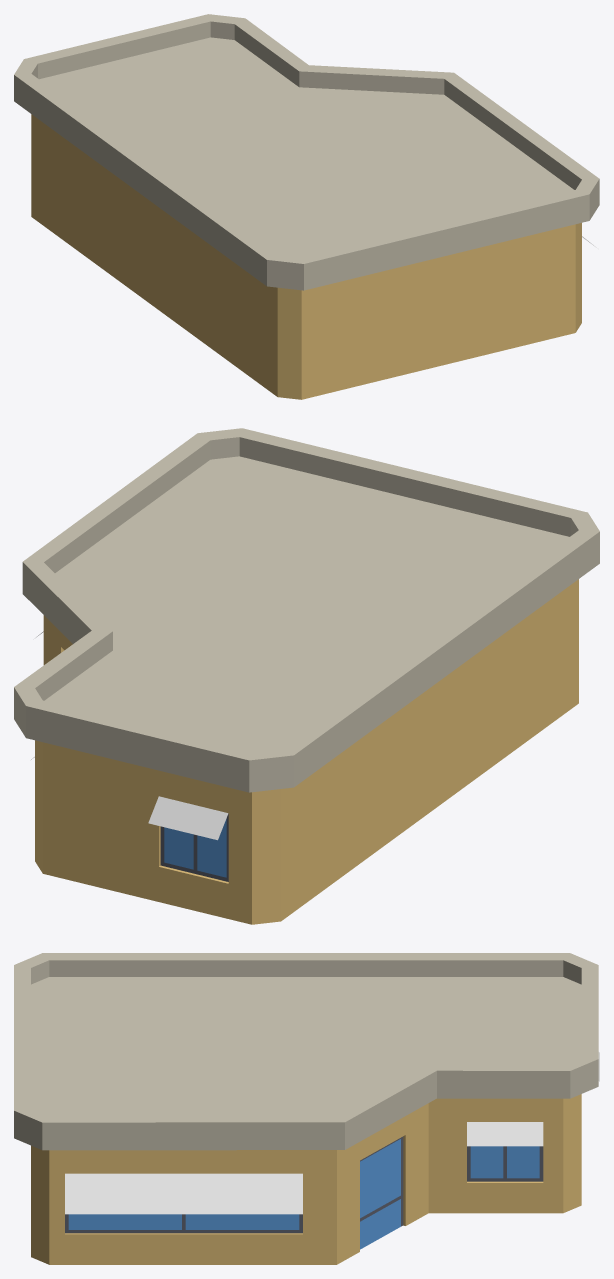
The model's file is cafe_y2.fbx.
The picture shows the model from 3 angles, top to bottom: view 1: azimuth 30°, elevation 25°; view 2: azimuth 150°, elevation 25°; view 3: azimuth 270°, elevation 25°; orthographic projection. The views are drawn at different scales.
Visible parts, largest first — view 1: Cafe2.002; view 2: Cafe2.002; view 3: Cafe2.002.
Part boxes in pixels (x1,y1,x2,y2): Cafe2.002: (14, 14, 599, 399); Cafe2.002: (14, 428, 599, 924); Cafe2.002: (14, 953, 599, 1264).
Size of the model in its own units: 6777 by 2696 by 9577.
